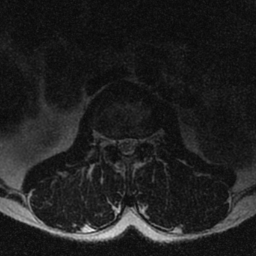CCS_stenosis: (124, 131, 131, 161)
LFS_stenosis: (139, 131, 146, 152)
LLS_stenosis: (131, 131, 138, 156)
RFS_stenosis: (109, 131, 116, 153)
RLS_stenosis: (116, 132, 124, 155)
